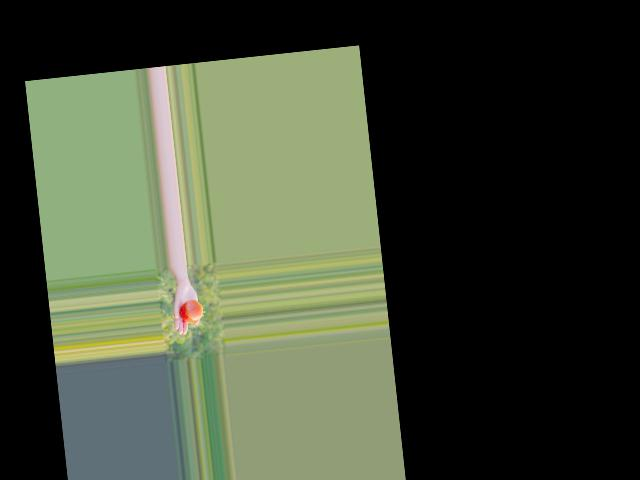tomato: (177, 299, 203, 323)
